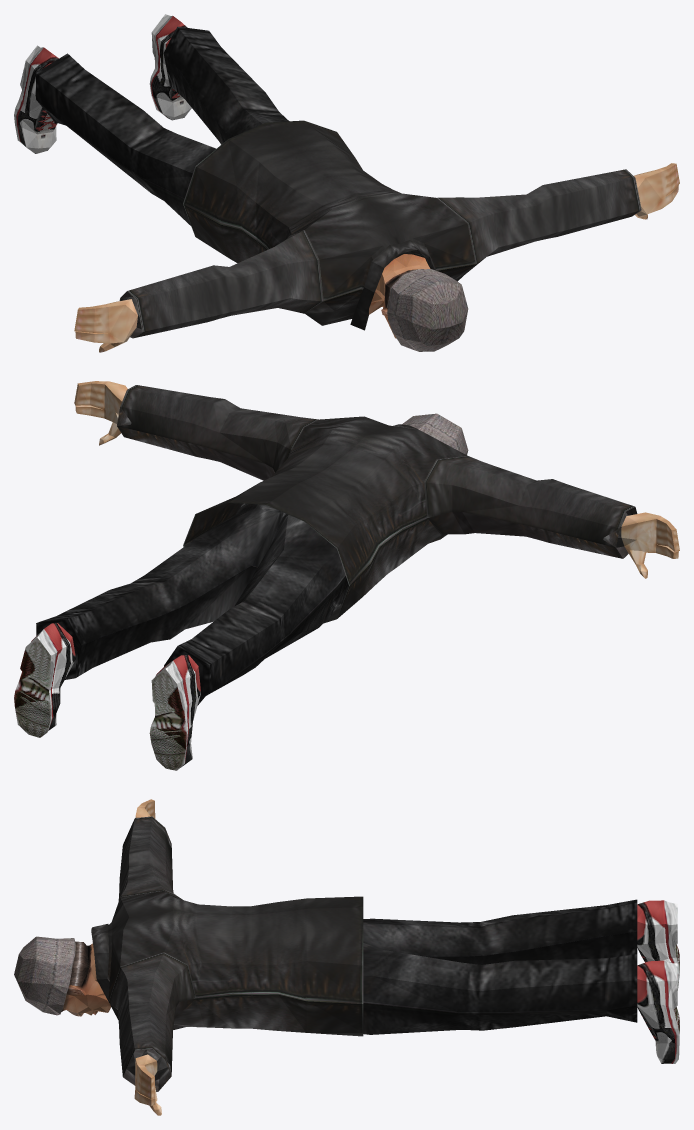
Rendered from thug_miguel_wtf.obj.
3 renders of one model, top to bottom at view 1: azimuth 30°, elevation 25°; view 2: azimuth 150°, elevation 25°; view 3: azimuth 270°, elevation 25°, orthographic. The views are drawn at different scales.
Visible parts, largest first — view 1: group1; view 2: group1; view 3: group1.
Part boxes in pixels (<box>): group1: <box>14,14,679,352</box>; group1: <box>14,381,679,770</box>; group1: <box>14,799,679,1115</box>.
Bounding box in the file's own units: 660 × 134 × 659.
